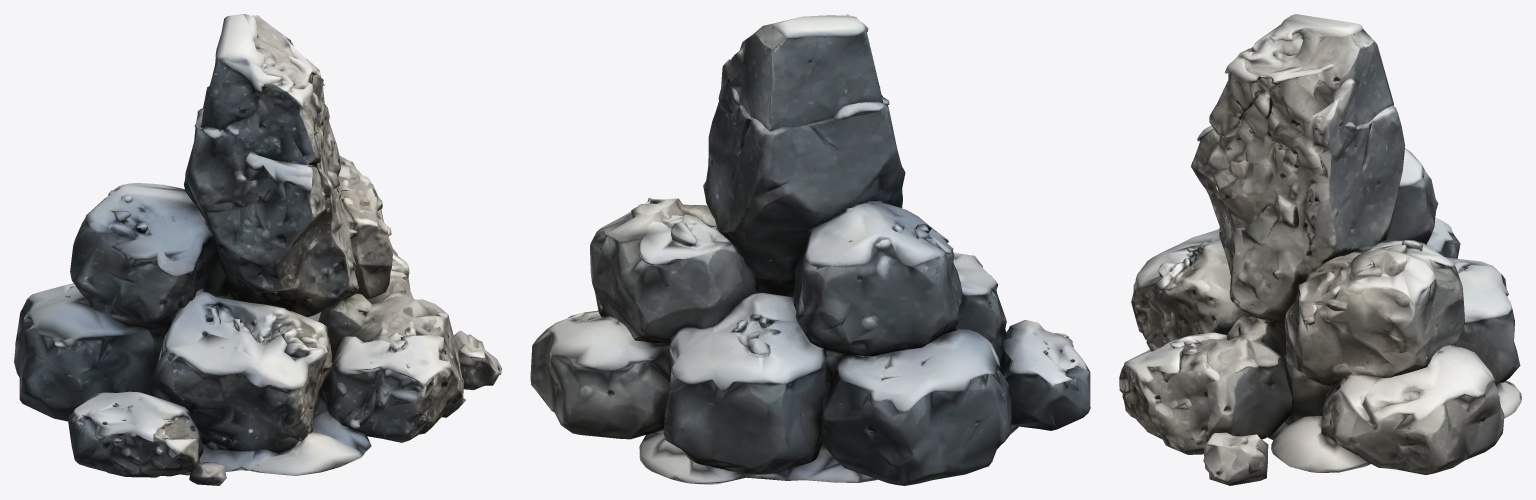
Rendered from snow-boulders.glb.
3 views of the same model, side by side, from view 1: azimuth 30°, elevation 25°; view 2: azimuth 150°, elevation 25°; view 3: azimuth 270°, elevation 25° (orthographic). The views are drawn at different scales.
Visible parts, largest first — view 1: node_51bee810-1890-43a5-9e02-5c1d334f0bce; view 2: node_51bee810-1890-43a5-9e02-5c1d334f0bce; view 3: node_51bee810-1890-43a5-9e02-5c1d334f0bce.
Boxes of the visible parts, x1,y1,x2,y2 form: node_51bee810-1890-43a5-9e02-5c1d334f0bce: (14, 14, 501, 485); node_51bee810-1890-43a5-9e02-5c1d334f0bce: (530, 14, 1090, 485); node_51bee810-1890-43a5-9e02-5c1d334f0bce: (1119, 14, 1521, 485).
Size of the model in its own units: 0.9795 by 0.806 by 0.8026.
1 material, 1 textured.
